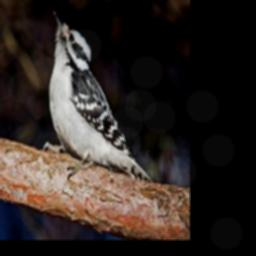Woodpecker: (39, 7, 151, 182)
